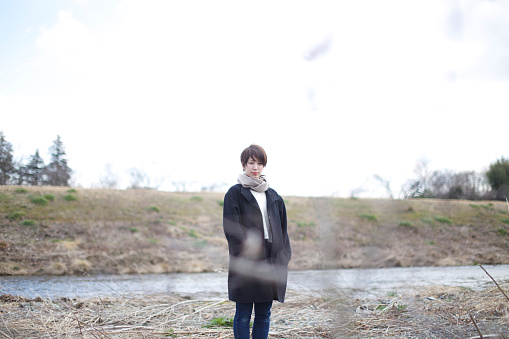em pe: (210, 135, 298, 339)
